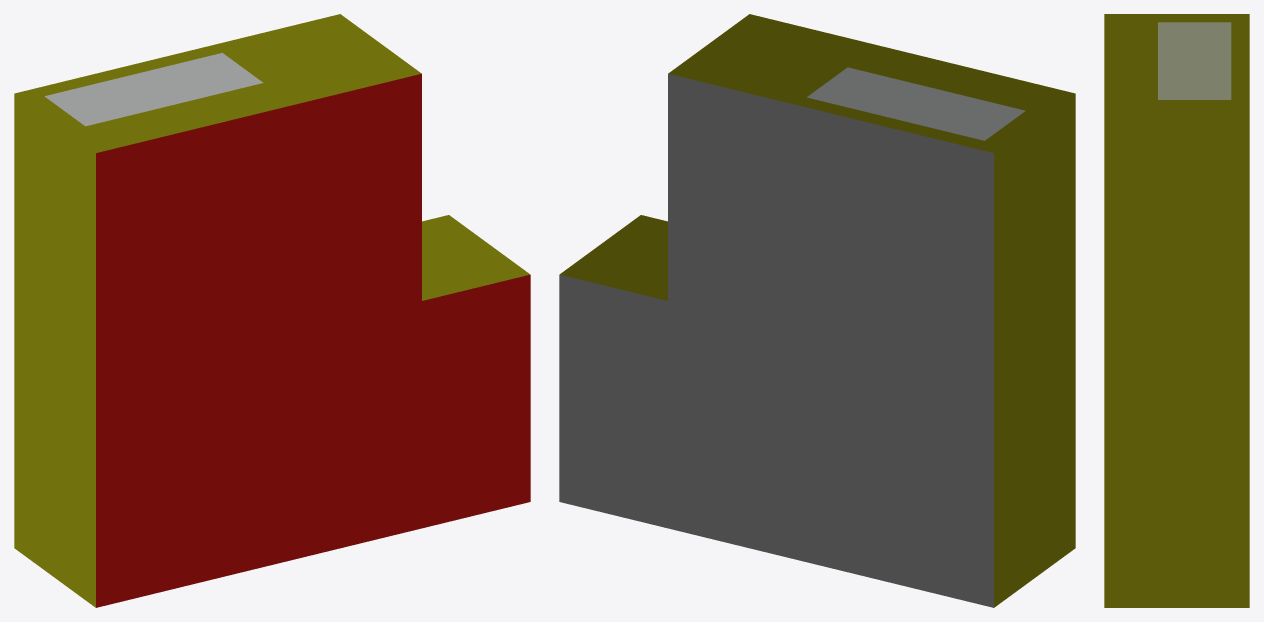
The model's file is idf.obj.
The picture shows the model from 3 angles, left to right: view 1: azimuth 30°, elevation 25°; view 2: azimuth 150°, elevation 25°; view 3: azimuth 270°, elevation 25°; orthographic projection. The views are drawn at different scales.
Bounding box in the file's own units: 12.19 × 12.19 × 3.96.
